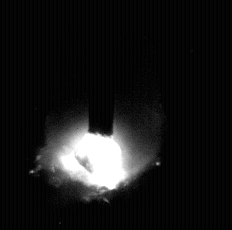arame: (89, 0, 114, 136)
poca: (44, 0, 160, 230)
